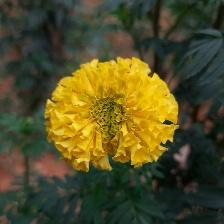marigold: (45, 57, 182, 173)
